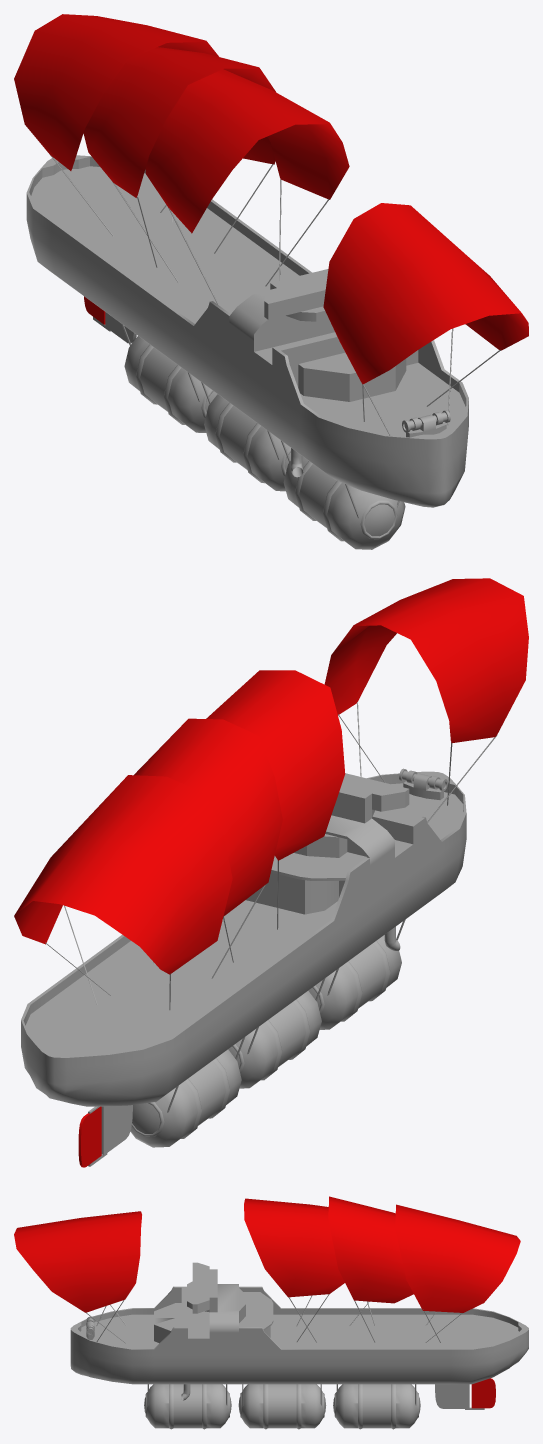
File: ship_merchant_cargo_02.FBX
3 views of the same model, one above another, from view 1: azimuth 30°, elevation 25°; view 2: azimuth 150°, elevation 25°; view 3: azimuth 270°, elevation 25° (orthographic). The views are drawn at different scales.
Parts seen in each view (by area): view 1: ship_merchant_cargo_02; view 2: ship_merchant_cargo_02; view 3: ship_merchant_cargo_02.
Boxes of the visible parts, <box> form: ship_merchant_cargo_02: <box>14,14,528,549</box>; ship_merchant_cargo_02: <box>14,578,528,1167</box>; ship_merchant_cargo_02: <box>14,1196,528,1429</box>.
Size of the model in its own units: 3660 by 8444 by 17552.
